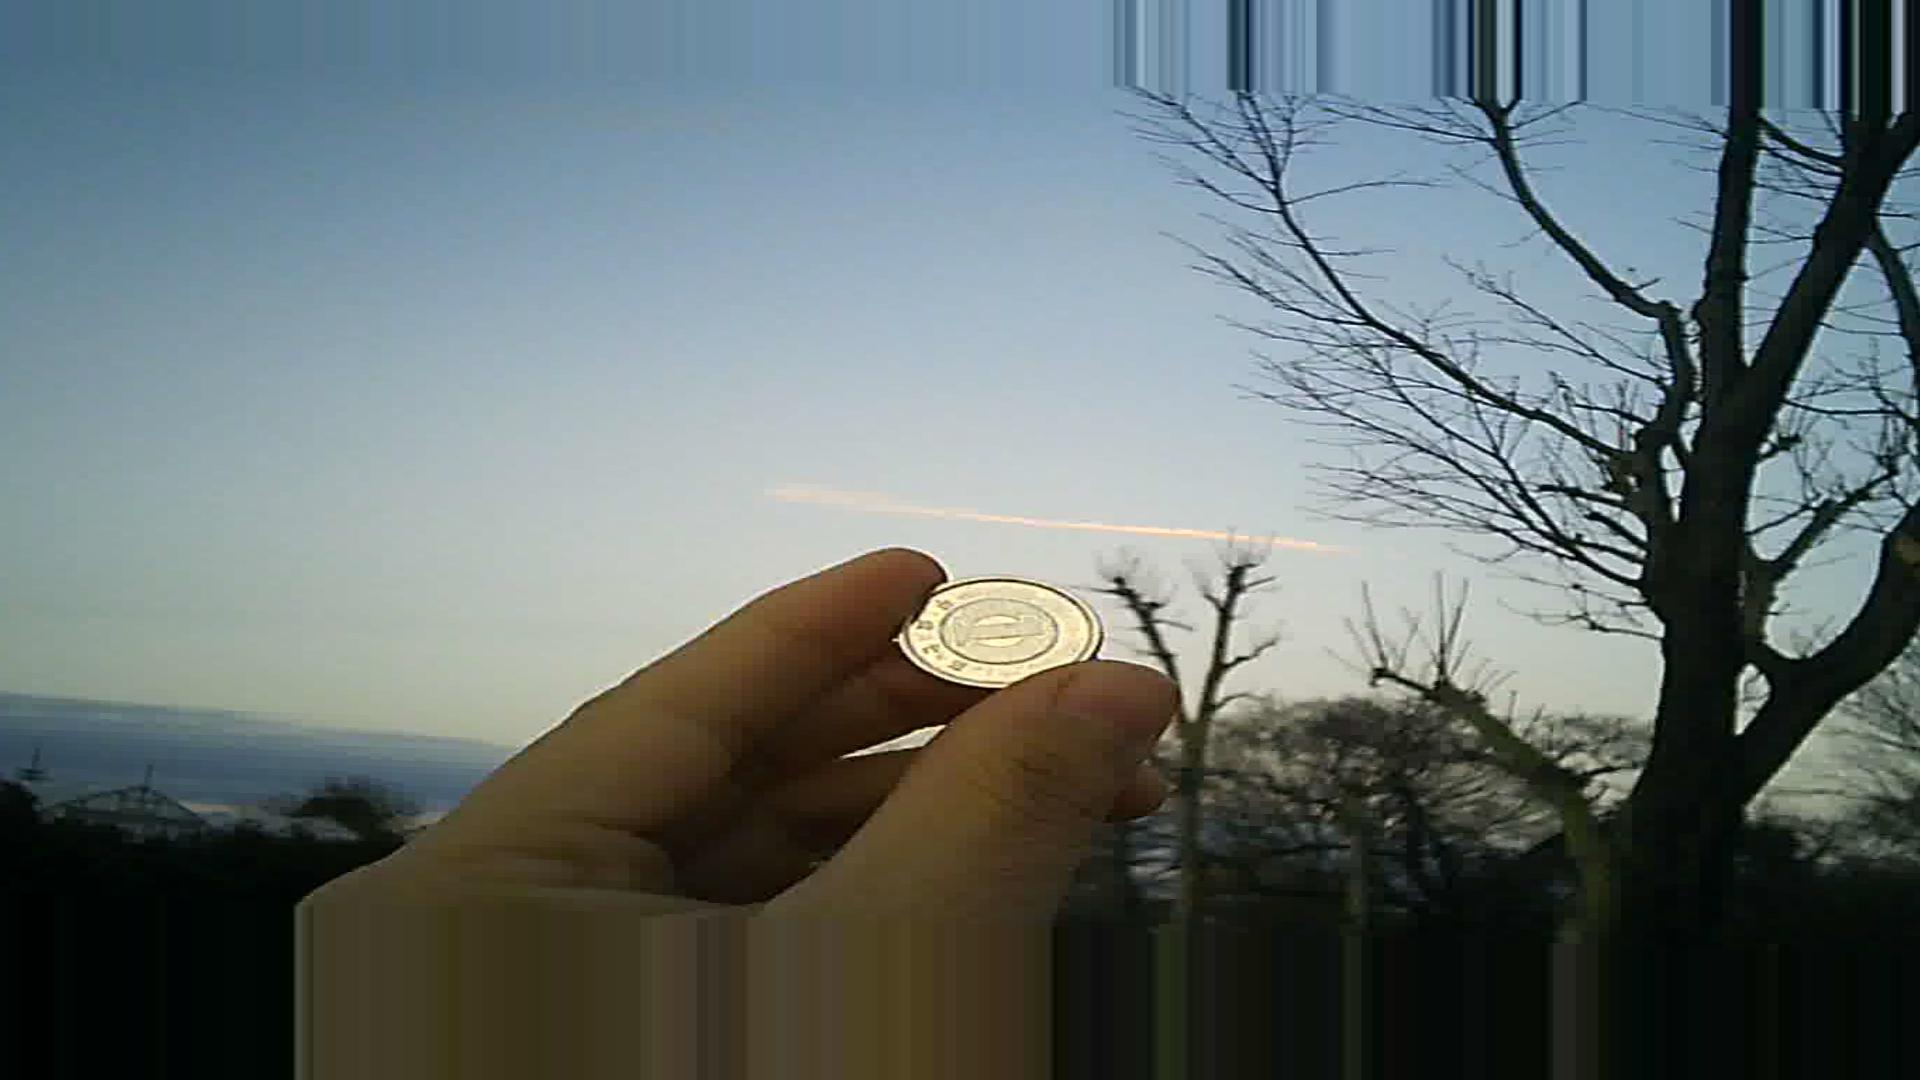1 Yen: (886, 570, 1117, 707)
